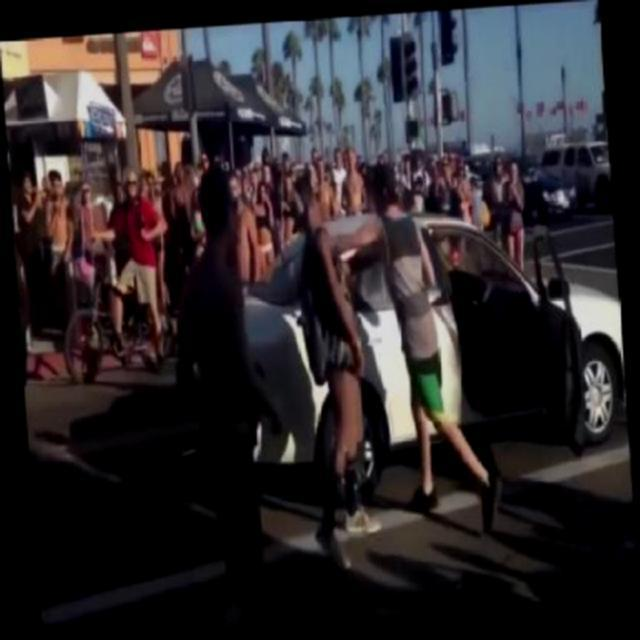fight: (288, 168, 463, 546)
